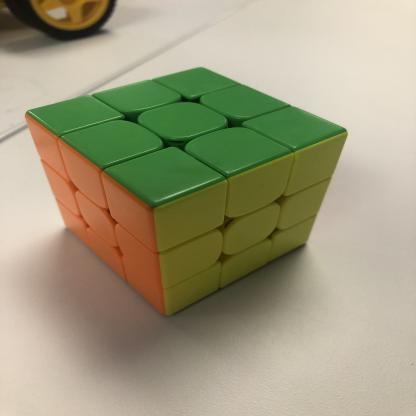SolvedCube: (10, 54, 366, 326)
